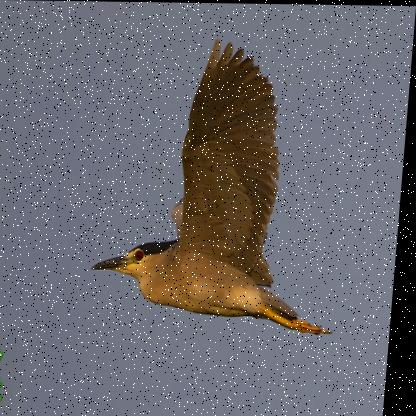Burung: (91, 37, 357, 336)
